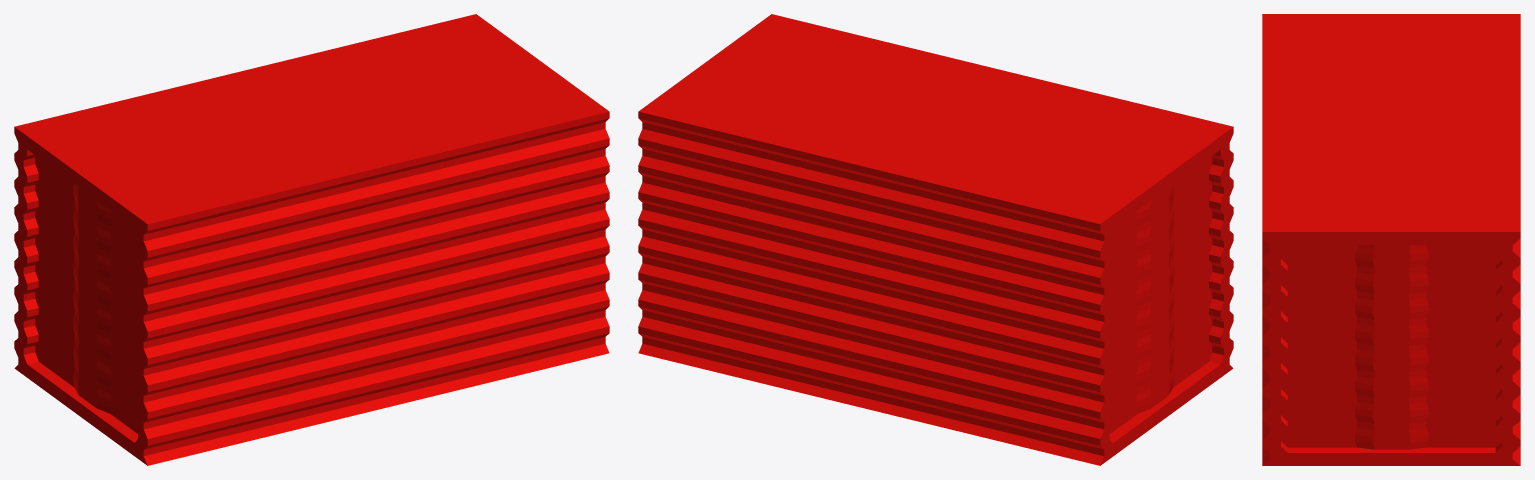
The model's file is container.fbx.
The picture shows the model from 3 angles, left to right: view 1: azimuth 30°, elevation 25°; view 2: azimuth 150°, elevation 25°; view 3: azimuth 270°, elevation 25°; orthographic projection. The views are drawn at different scales.
Visible parts, largest first — view 1: Cube; view 2: Cube; view 3: Cube.
Boxes of the visible parts, x1=… form: Cube: x1=14, y1=14, x2=609, y2=465; Cube: x1=638, y1=14, x2=1233, y2=465; Cube: x1=1262, y1=14, x2=1520, y2=465.
Bounding box in the file's own units: 20 × 10 × 10.
